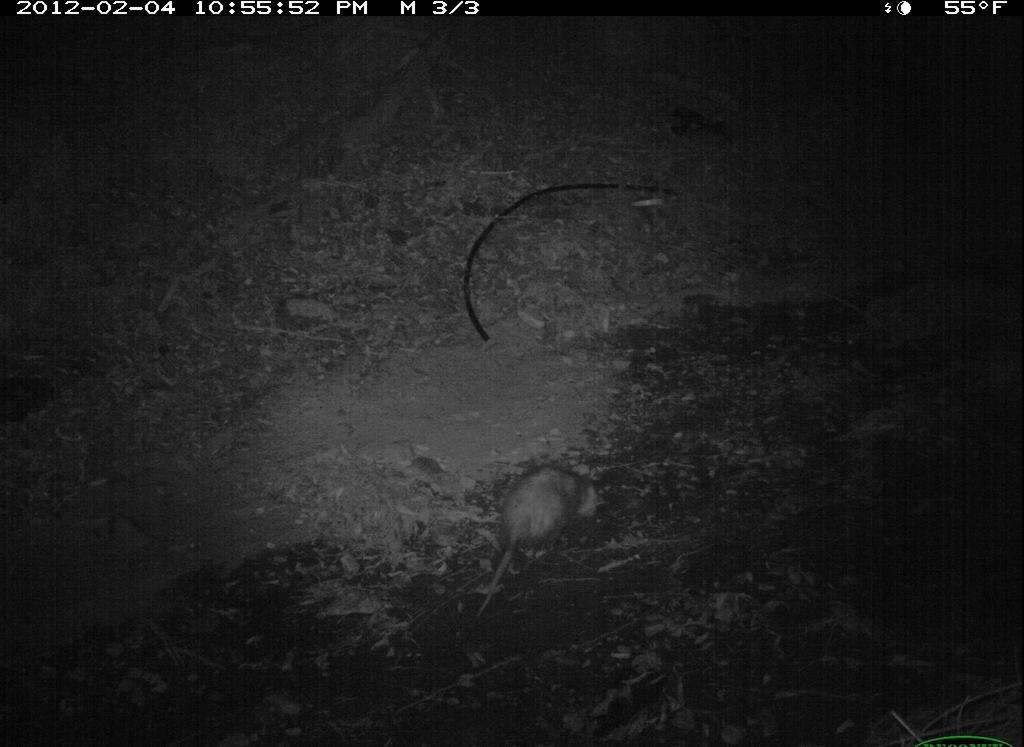opossum: (468, 429, 617, 639)
